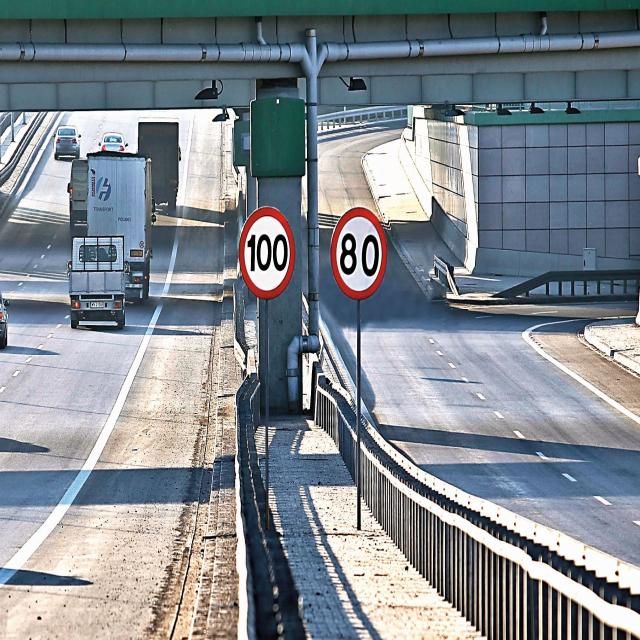Speed Limit -100-: (247, 232, 288, 272)
Speed Limit -80-: (340, 232, 380, 276)
